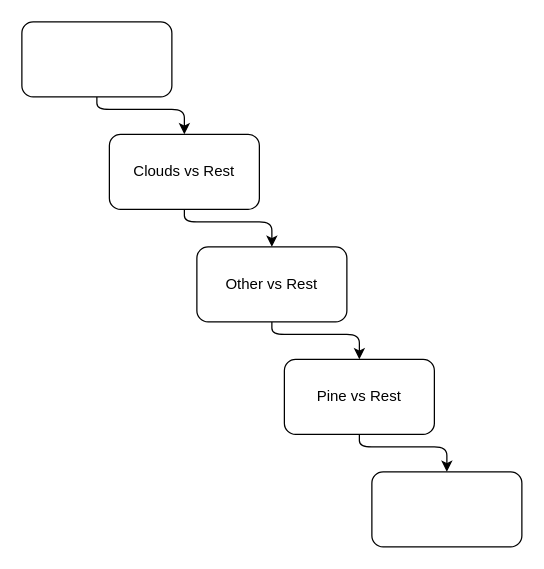
Some shapes in this 544 by 569 pixel diagram are drawn without their labels. Here are the shapes that lost their labels. From the top down, the box of each, then its label:
(21, 21, 172, 97): Water vs Rest
(371, 471, 522, 547): Spruce vs Decidous
